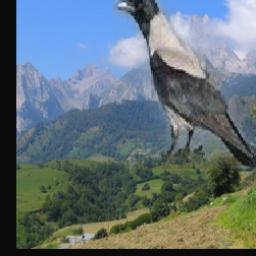Crow: (112, 0, 256, 170)
